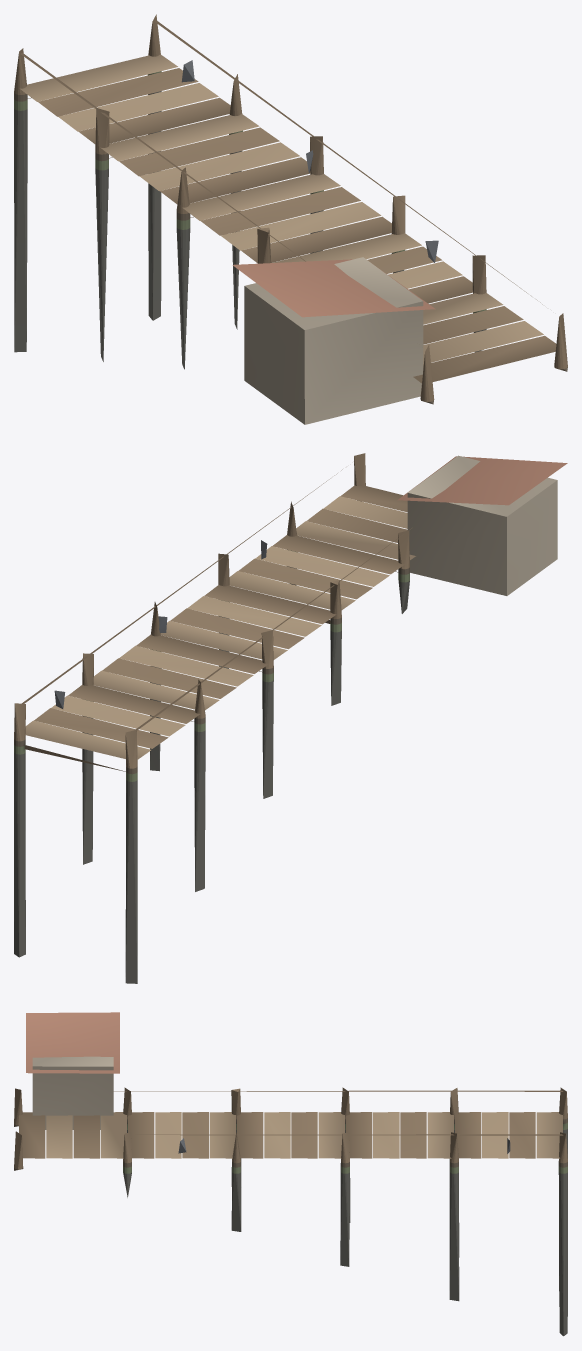
File: pier_dalkkeut_low.glb
The picture shows the model from 3 angles, top to bottom: view 1: azimuth 30°, elevation 25°; view 2: azimuth 150°, elevation 25°; view 3: azimuth 270°, elevation 25°; orthographic projection. The views are drawn at different scales.
Bounding box in the file's own units: 7.39 × 9.69 × 20.34.
